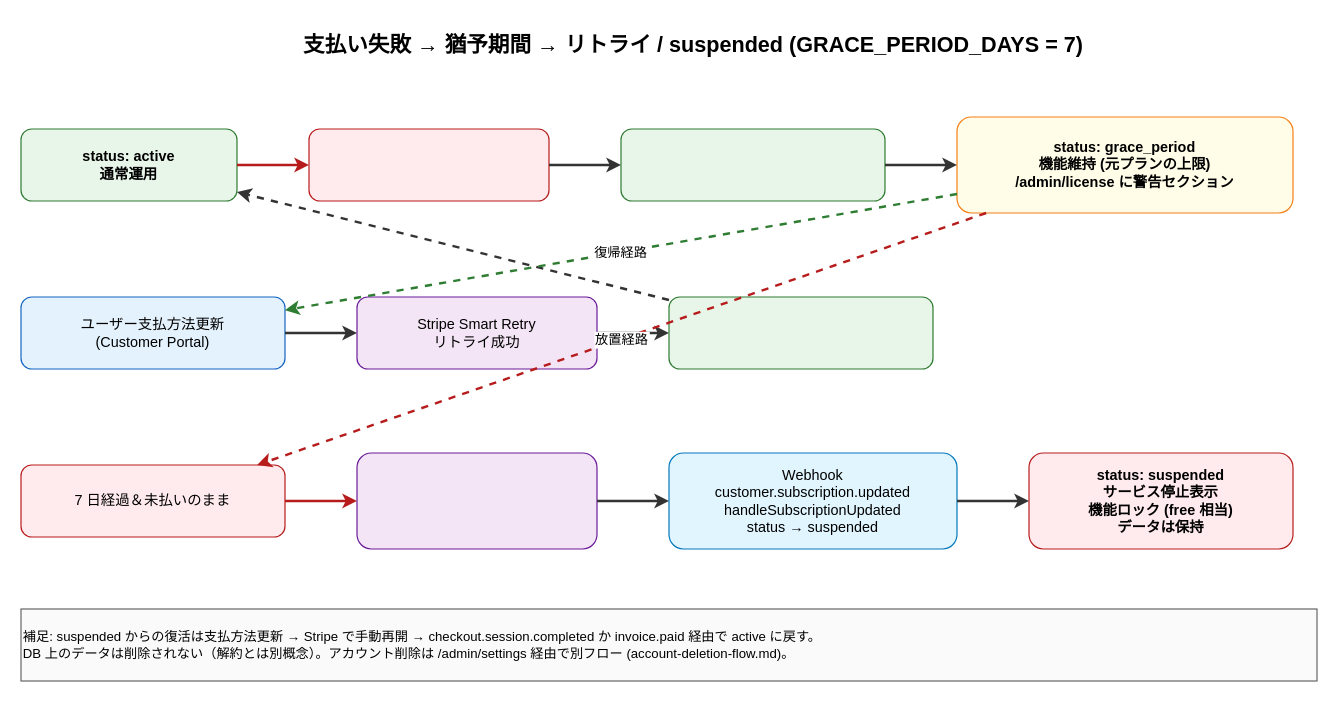
This 1338x702 diagram has some shape labels left out. Each missing label, with the centre of its shape:
"handlePaymentFailed status = grace_period planExpiresAt = now + 7d" belongs at [752,164].
"invoice.paid Webhook handleInvoicePaid status = active 復帰" belongs at [800,332].
"Stripe subscription.status = past_due → unpaid" belongs at [476,500].
"Stripe 課金失敗 invoice.payment_failed" belongs at [428,164].
